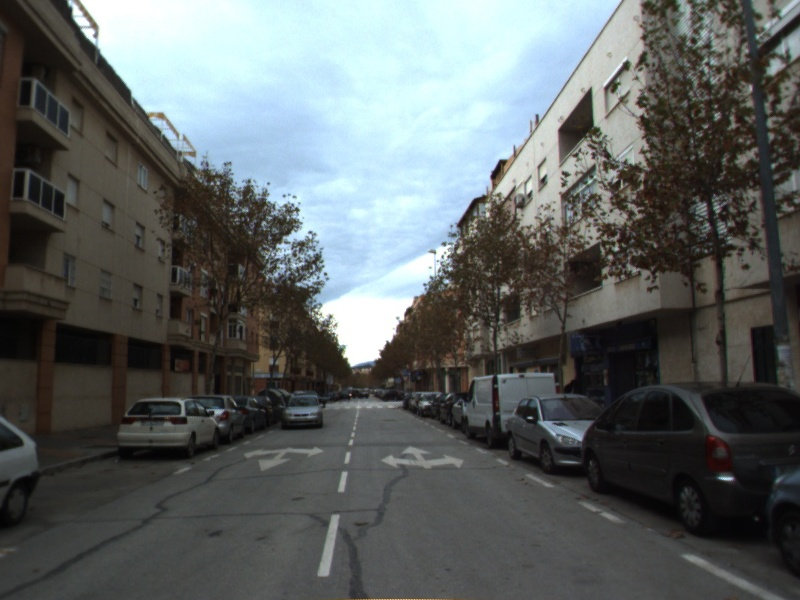STRAIGHT_LEFT_RIGHT: (379, 444, 466, 471)
